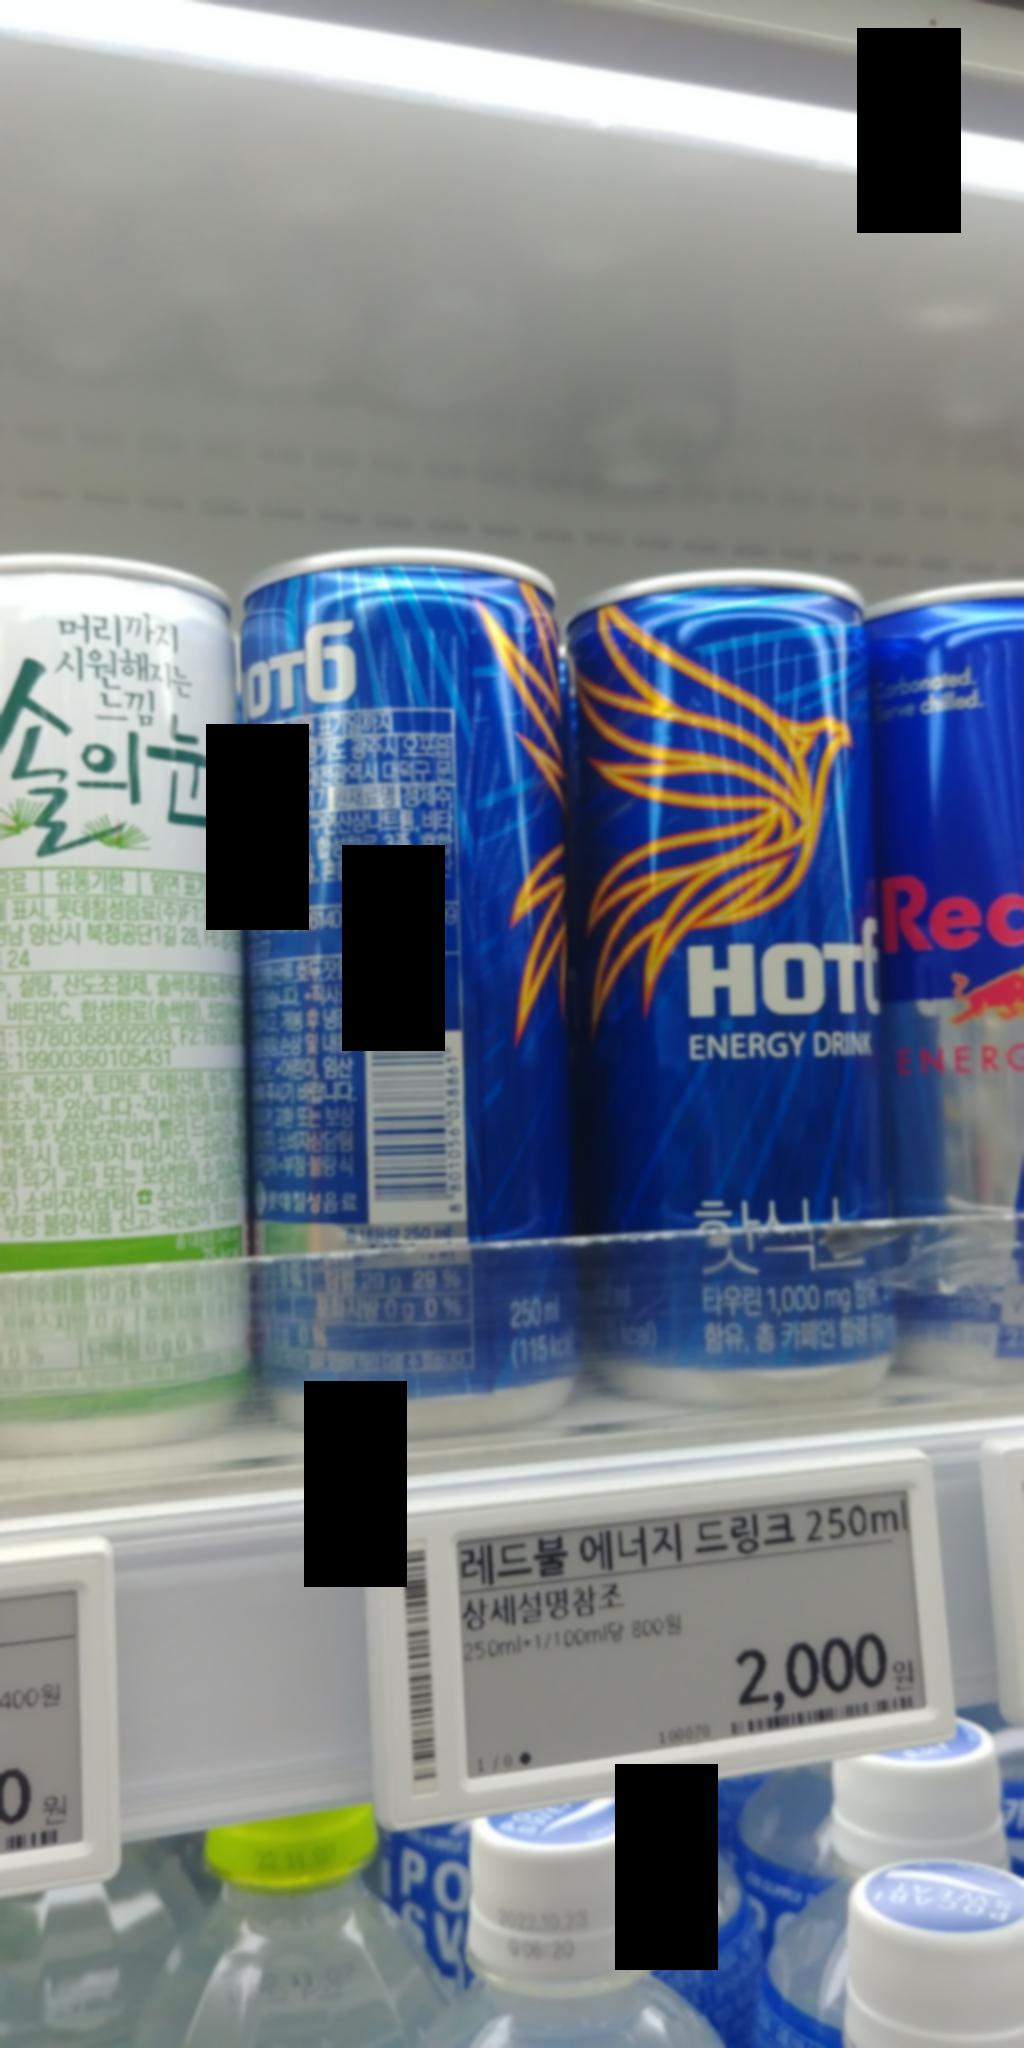hotsix_org: (208, 533, 590, 1425), (550, 559, 900, 1398)
